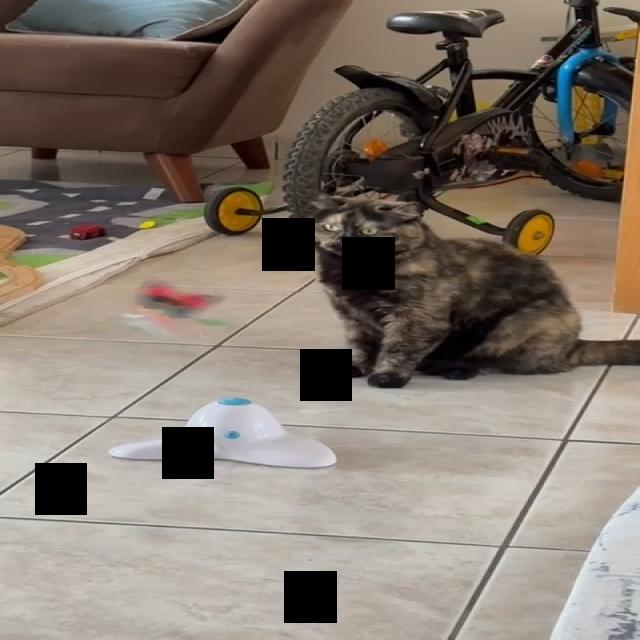authorized: (300, 190, 639, 388)
